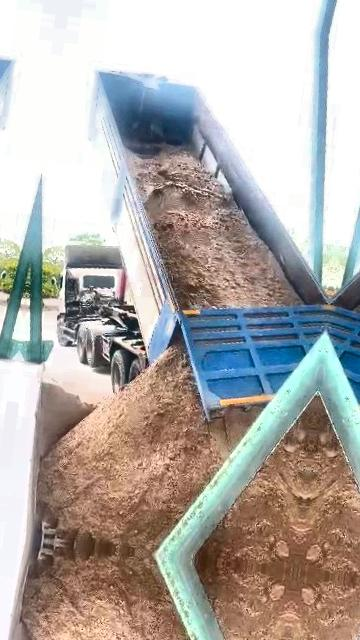sand: (38, 347, 259, 553), (129, 146, 302, 307), (198, 396, 318, 571), (35, 372, 94, 459), (170, 327, 187, 353)
